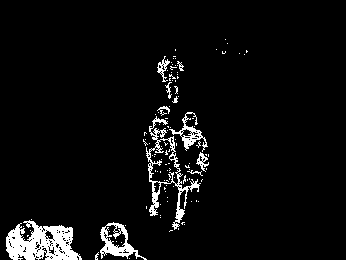person: (171, 111, 209, 231), (142, 105, 178, 216), (158, 53, 184, 104)
